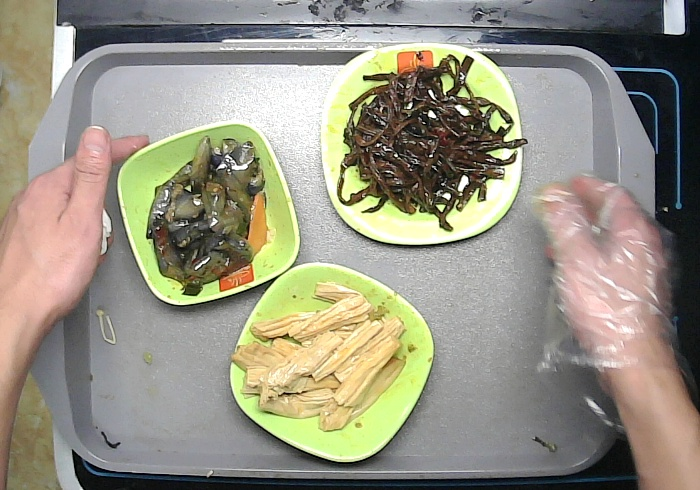SHKJ-Lv_Se_Cai_Die: (228, 262, 433, 465)
SHKJ-Lv_Se_Si_Fang_Cai_Die: (318, 41, 529, 259)
SHKJ-Lv_Se_Xiao_Fang_Die: (116, 120, 300, 307)
